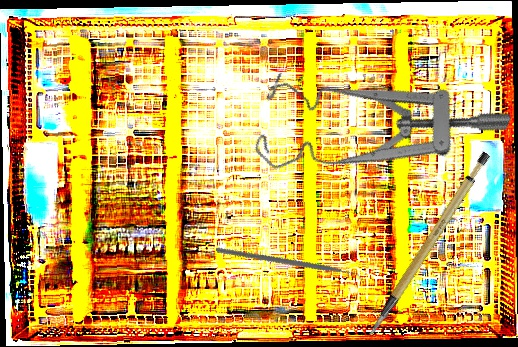Chopper: (215, 202, 365, 332)
Scalpel Handle: (341, 149, 513, 338)
Speculum: (243, 25, 513, 244)
